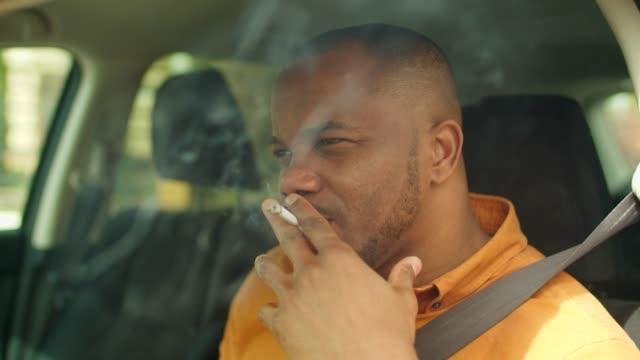smoker: (139, 13, 521, 349)
